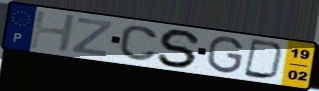C: (118, 24, 160, 63)
D: (242, 38, 287, 82)
G: (206, 35, 246, 74)
H: (27, 10, 78, 54)
S: (155, 28, 204, 69)
Z: (69, 16, 114, 58)
